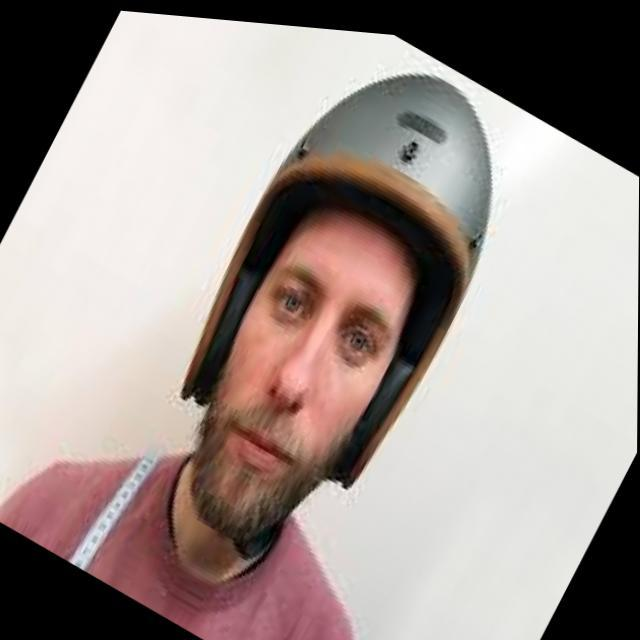Helmet: (168, 70, 500, 553)
